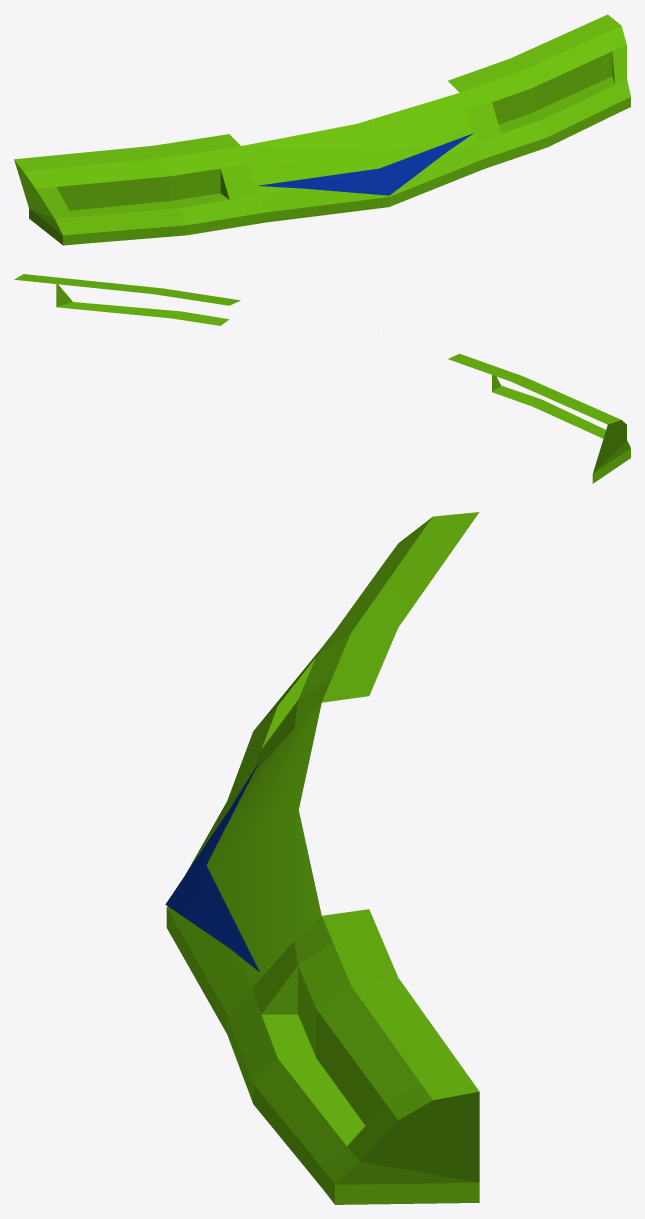
Rendered from LuxBumper00C05.gltf.
The picture shows the model from 3 angles, top to bottom: view 1: azimuth 30°, elevation 25°; view 2: azimuth 150°, elevation 25°; view 3: azimuth 270°, elevation 25°; orthographic projection. The views are drawn at different scales.
Visible parts, largest first — view 1: LuxBumper00C05; view 2: LuxBumper00C05; view 3: LuxBumper00C05.
Part boxes in pixels (x1=…): LuxBumper00C05: x1=14, y1=14, x2=630, y2=245; LuxBumper00C05: x1=14, y1=274, x2=630, y2=483; LuxBumper00C05: x1=165, y1=512, x2=479, y2=1204.
Bounding box in the file's own units: 0.1824 × 0.0184 × 0.0415.
1 material, 1 textured.
